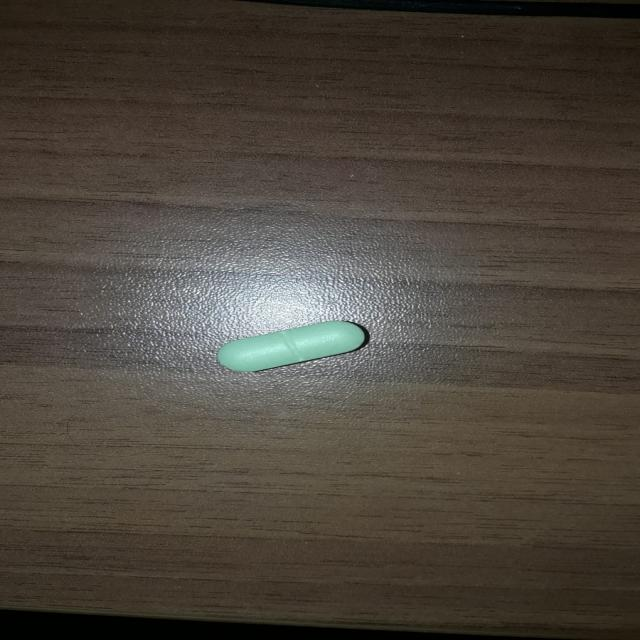pills: (195, 305, 395, 380)
